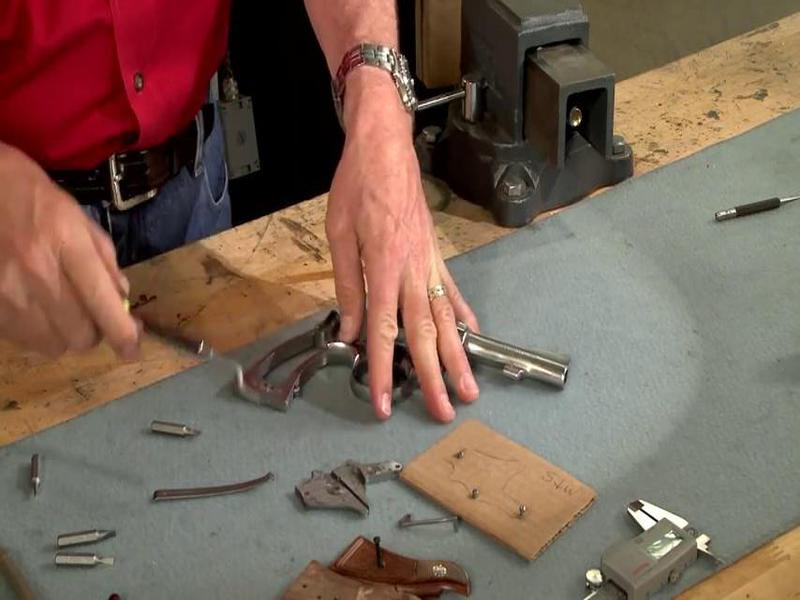Revolver: (229, 280, 577, 463)
